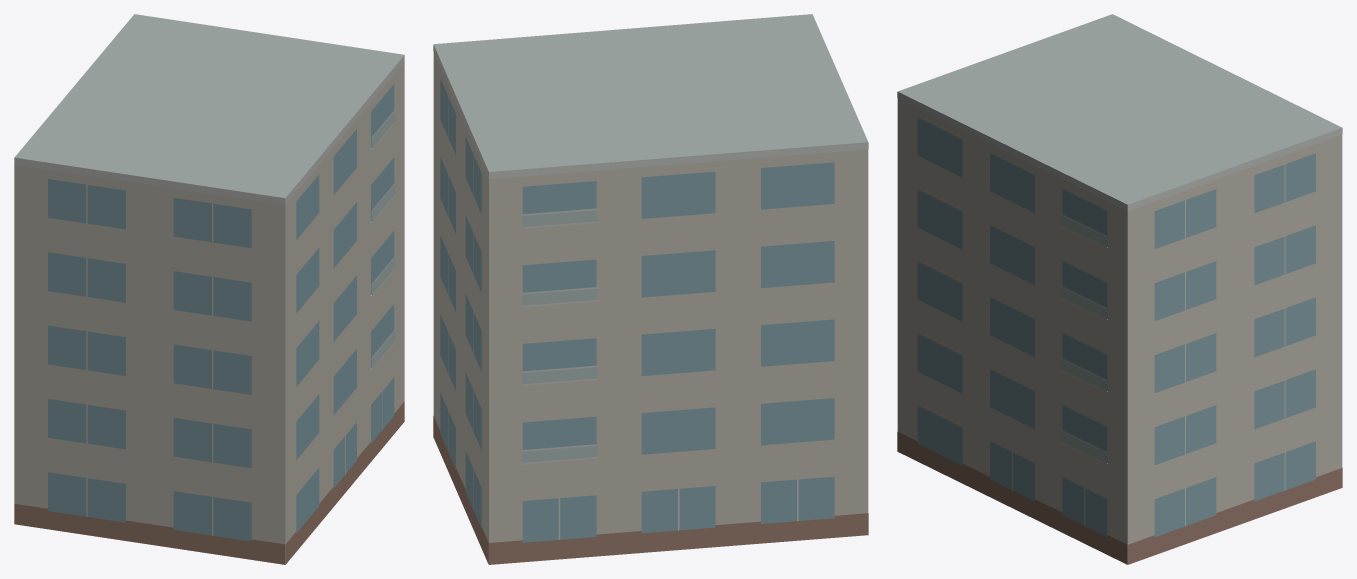
File: survey-upis-32528988.glb
The picture shows the model from 3 angles, left to right: view 1: azimuth 30°, elevation 25°; view 2: azimuth 150°, elevation 25°; view 3: azimuth 270°, elevation 25°; orthographic projection. The views are drawn at different scales.
Visible parts, largest first — view 1: survey-upis-32528988.tmp; view 2: survey-upis-32528988.tmp; view 3: survey-upis-32528988.tmp.
Boxes of the visible parts, x1,y1,x2,y2 form: survey-upis-32528988.tmp: (14,14,404,564); survey-upis-32528988.tmp: (433,14,868,564); survey-upis-32528988.tmp: (897,14,1342,564).
Bounding box in the file's own units: 15.35 × 13.5 × 15.13.
